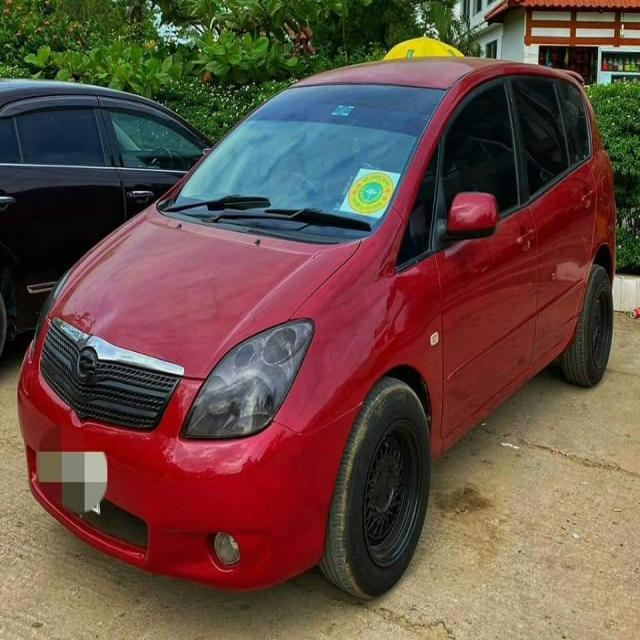black: (0, 70, 194, 341)
red: (64, 90, 612, 608)
